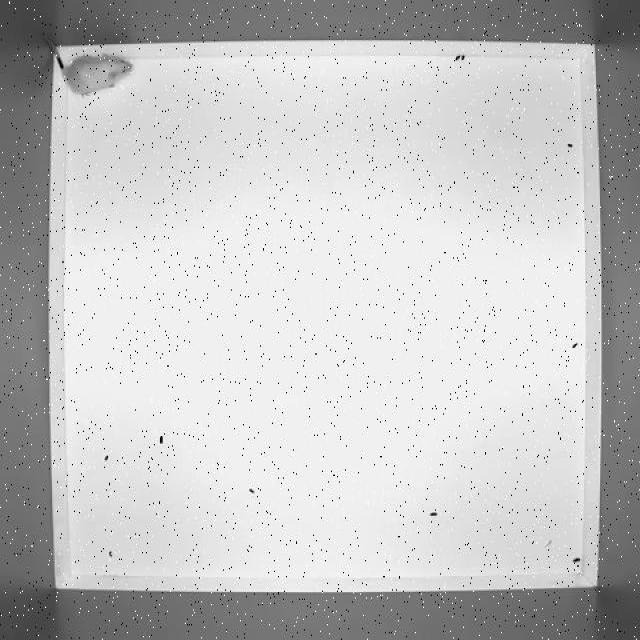rat: (40, 33, 132, 99)
